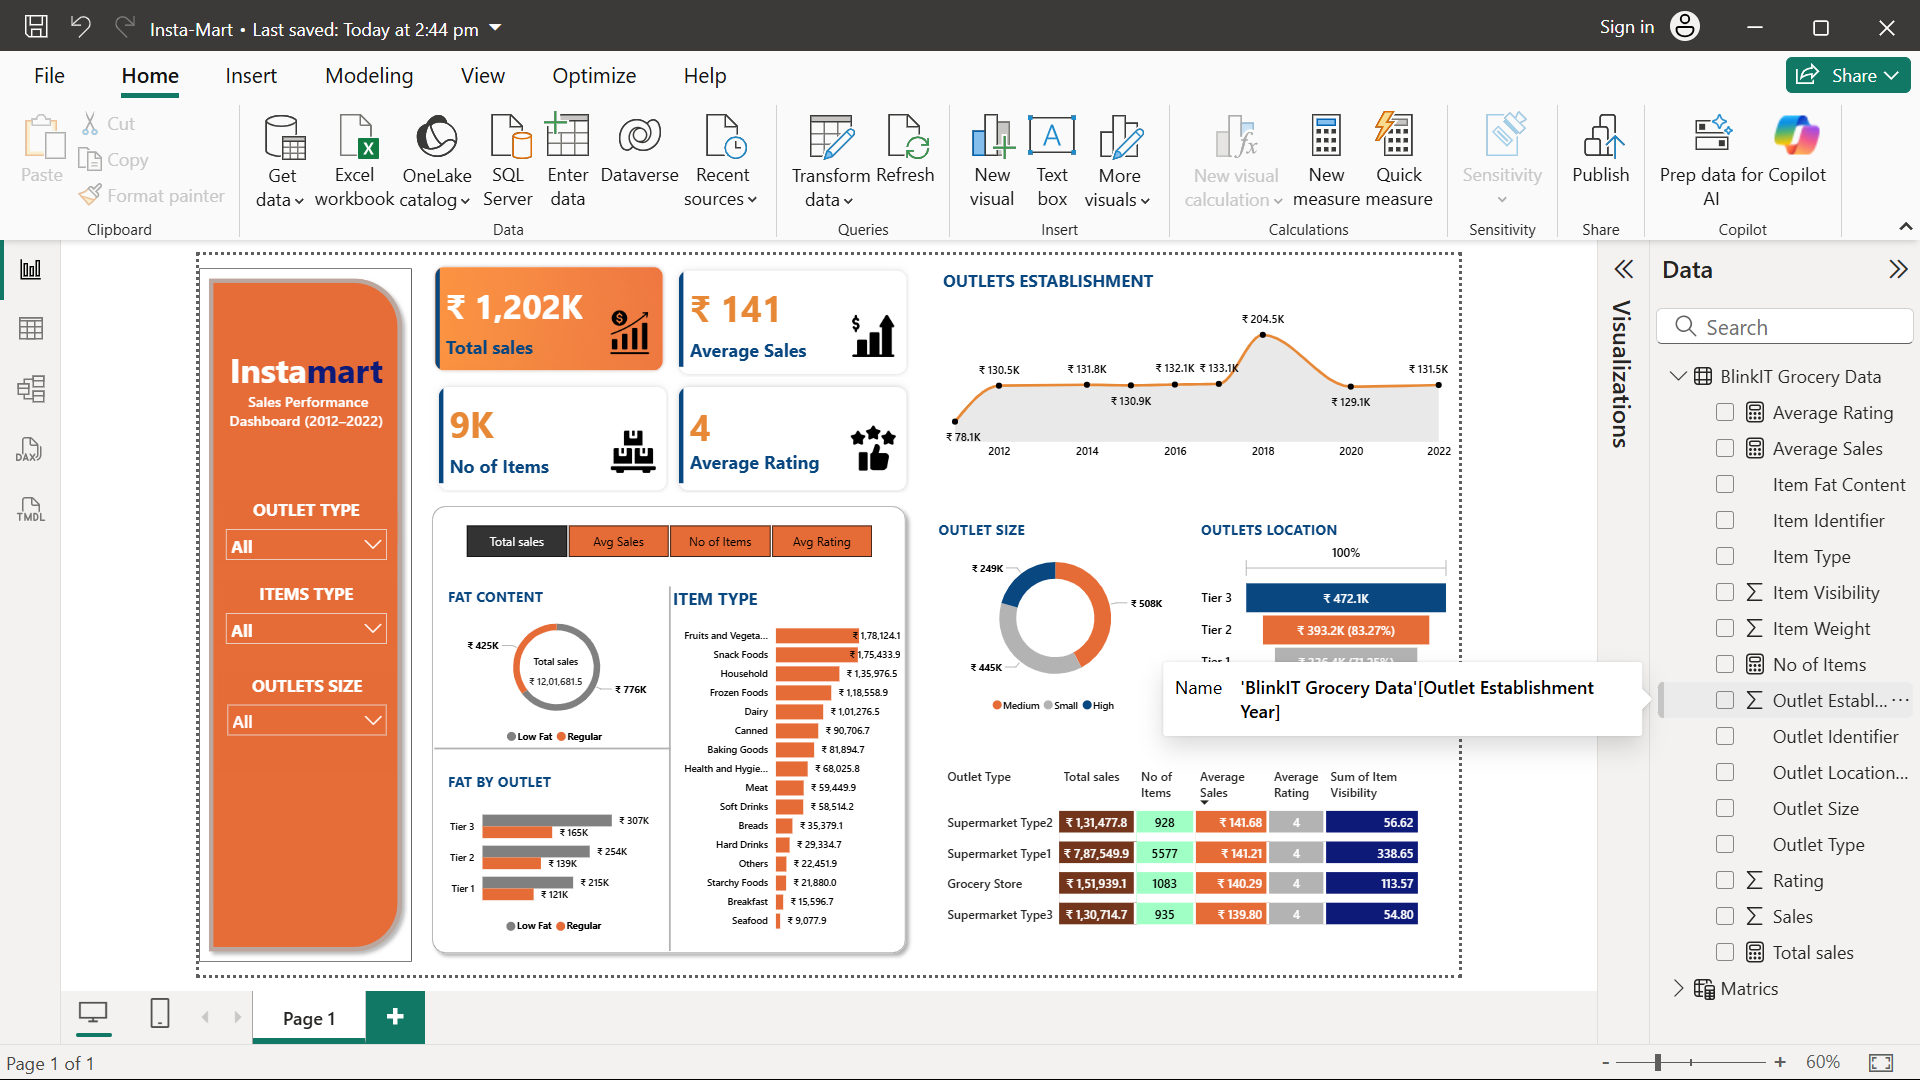

Layout of this report page (visuals, bound fields, positions):
{"tool":"powerbi","page":{"name":"Page 1","canvas":[1400,800],"ordinal":0},"visuals":[{"type":"cardVisual","fields":{"Data":["BlinkIT Grocery Data.TotalNumber Of sales","BlinkIT Grocery Data.Avg Sales","BlinkIT Grocery Data.No Of Items","BlinkIT Grocery Data.Avg Rating"]},"box":[250.8,0,544.3,270.5],"z":0},{"type":"shape","box":[0,14.3,236.5,769.8],"z":1000},{"type":"textbox","box":[19.7,96.7,198.4,124.6],"z":2000},{"type":"shape","box":[250.8,270.5,544.3,514.8],"z":4000},{"type":"donutChart","title":"FAT CONTENT ","fields":{"Y":["BlinkIT Grocery Data.Total  sales"],"Category":["BlinkIT Grocery Data.Item Fat Content"]},"box":[271.4,368.3,250.8,184.1],"z":5000},{"type":"slicer","fields":{"Values":["Matrics.Matrics"]},"box":[272.1,293.4,500,49.2],"z":6000},{"type":"cardVisual","fields":{"Data":["BlinkIT Grocery Data.Total  sales"]},"box":[343.3,426.7,106.7,66.7],"z":7000},{"type":"clusteredBarChart","title":"FAT BY OUTLET ","fields":{"Y":["BlinkIT Grocery Data.Total  sales"],"Category":["BlinkIT Grocery Data.Outlet Location Type"],"Series":["BlinkIT Grocery Data.Item Fat Content"]},"box":[272.1,573.8,249.2,190.2],"z":8000},{"type":"shape","box":[260.8,535,262.5,26.7],"z":9000},{"type":"shape","box":[511,369,23,405],"z":10000},{"type":"barChart","title":"ITEM TYPE","fields":{"Y":["BlinkIT Grocery Data.Total  sales"],"Category":["BlinkIT Grocery Data.Item Type"]},"box":[521.3,368.9,262.3,393.4],"z":11000},{"type":"lineChart","title":"OUTLETS ESTABLISHMENT ","fields":{"Y":["BlinkIT Grocery Data.Total  sales"],"Category":["BlinkIT Grocery Data.Outlet Establishment Year"]},"box":[821.3,14.9,574.5,221.3],"z":12000},{"type":"donutChart","title":"OUTLET SIZE","fields":{"Y":["BlinkIT Grocery Data.Total  sales"],"Category":["BlinkIT Grocery Data.Outlet Size"]},"box":[816.4,293.4,268.9,224.6],"z":13000},{"type":"funnel","title":"OUTLETS LOCATION ","fields":{"Y":["BlinkIT Grocery Data.Total  sales"],"Category":["BlinkIT Grocery Data.Outlet Location Type"]},"box":[1108.2,293.4,286.9,224.6],"z":14000},{"type":"pivotTable","fields":{"Values":["BlinkIT Grocery Data.Total  sales","BlinkIT Grocery Data.No of Items","BlinkIT Grocery Data.Average Sales","BlinkIT Grocery Data.Average Rating","Sum(BlinkIT Grocery Data.Item Visibility)"],"Rows":["BlinkIT Grocery Data.Outlet Type"]},"box":[821.3,561.7,574.5,223.4],"z":15000},{"type":"shape","box":[14.8,270.5,209.8,57.4],"z":16000},{"type":"slicer","title":"OUTLET TYPE","fields":{"Values":["BlinkIT Grocery Data.Outlet Location Type"]},"box":[19.7,270.5,198.4,72.1],"z":17000},{"type":"slicer","title":"ITEMS TYPE","fields":{"Values":["BlinkIT Grocery Data.Item Type"]},"box":[19.7,363.9,198.4,70.5],"z":18000},{"type":"slicer","title":"OUTLETS SIZE","fields":{"Values":["BlinkIT Grocery Data.Outlet Size"]},"box":[21,464.5,196.8,109.7],"z":19000}]}

Visuals, with their boxes on the page's 1400x800 design canvas (x1, y1, x2, y2). These are canvas units, not pixel positions in the 1920x1080 screenshot, which may show the page scaled, cropped or inside an application window:
cardVisual - BlinkIT Grocery Data.TotalNumber Of sales x BlinkIT Grocery Data.Avg Sales: region(251, 0, 795, 270)
shape: region(0, 14, 236, 784)
textbox: region(20, 97, 218, 221)
shape: region(251, 270, 795, 785)
"FAT CONTENT " donutChart: region(271, 368, 522, 552)
slicer - Matrics.Matrics: region(272, 293, 772, 343)
cardVisual - BlinkIT Grocery Data.Total  sales: region(343, 427, 450, 493)
"FAT BY OUTLET " clusteredBarChart: region(272, 574, 521, 764)
shape: region(261, 535, 523, 562)
shape: region(511, 369, 534, 774)
"ITEM TYPE" barChart: region(521, 369, 784, 762)
"OUTLETS ESTABLISHMENT " lineChart: region(821, 15, 1396, 236)
"OUTLET SIZE" donutChart: region(816, 293, 1085, 518)
"OUTLETS LOCATION " funnel: region(1108, 293, 1395, 518)
pivotTable - BlinkIT Grocery Data.Total  sales x BlinkIT Grocery Data.No of Items: region(821, 562, 1396, 785)
shape: region(15, 270, 225, 328)
"OUTLET TYPE" slicer: region(20, 270, 218, 343)
"ITEMS TYPE" slicer: region(20, 364, 218, 434)
"OUTLETS SIZE" slicer: region(21, 464, 218, 574)
